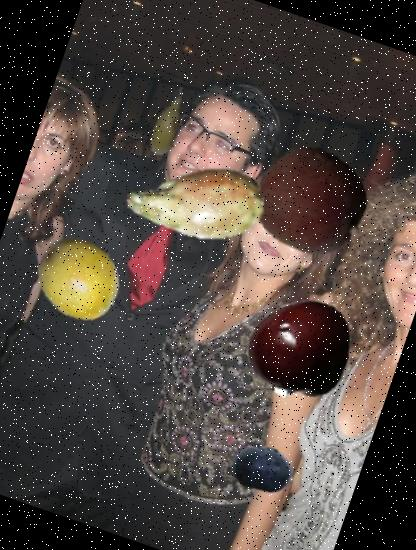Banana: (125, 76, 217, 168)
Blueberry: (222, 428, 304, 509)
Cactus: (106, 114, 282, 292)
Cherry: (235, 280, 368, 413)
Maracuja: (22, 223, 134, 335)
Orange: (254, 145, 366, 256)
Peach: (242, 130, 383, 271)
